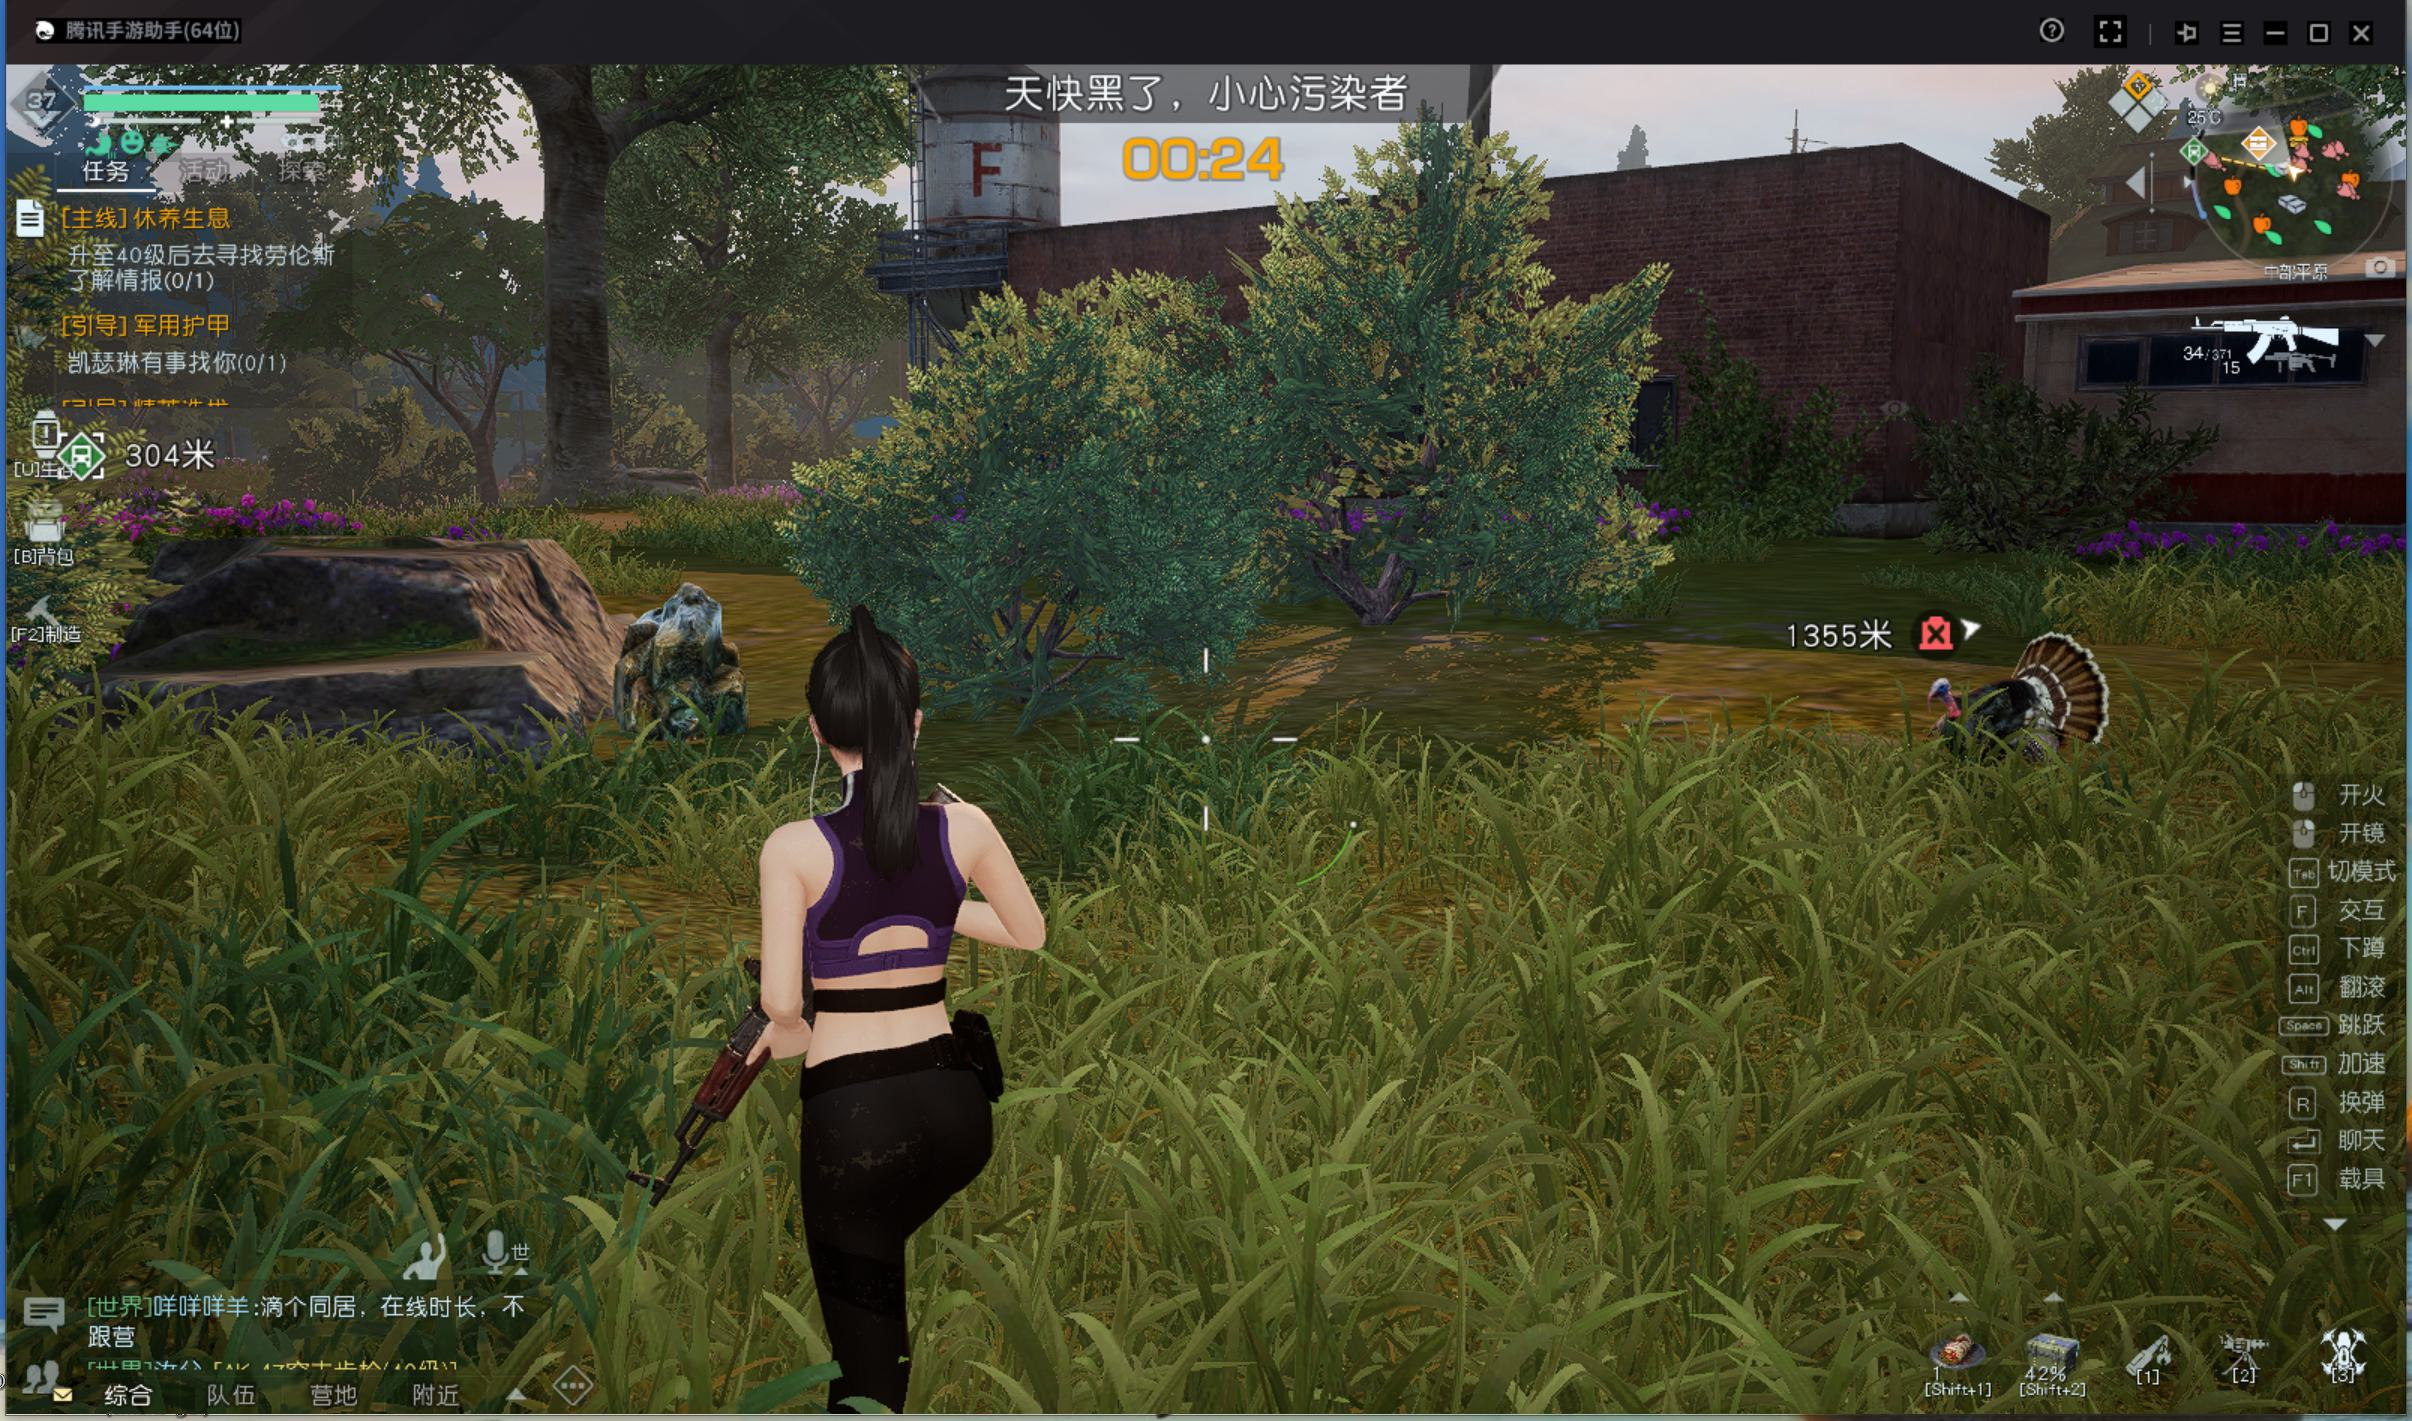stone: (585, 573, 770, 756)
tree: (533, 156, 633, 543), (690, 257, 753, 545)
